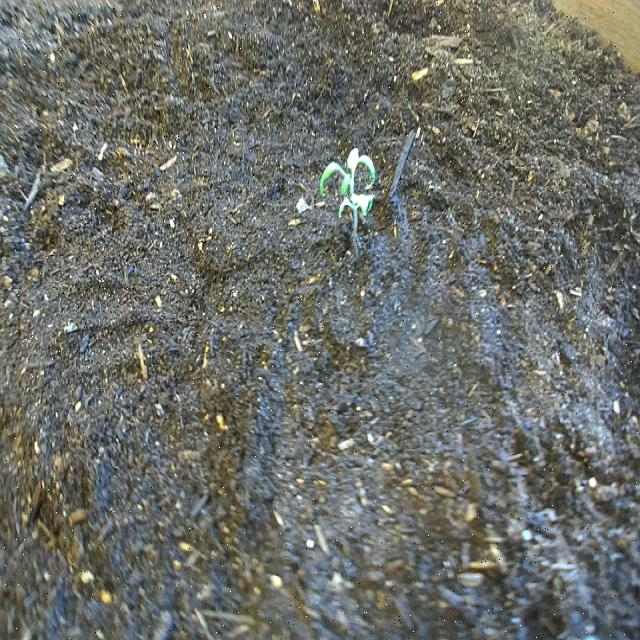Healthy: (321, 144, 382, 240)
